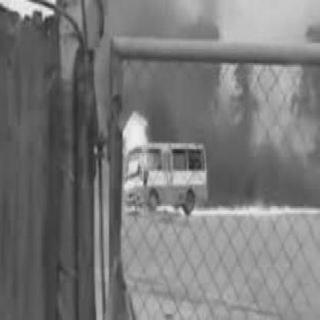Fire: (120, 101, 156, 173)
